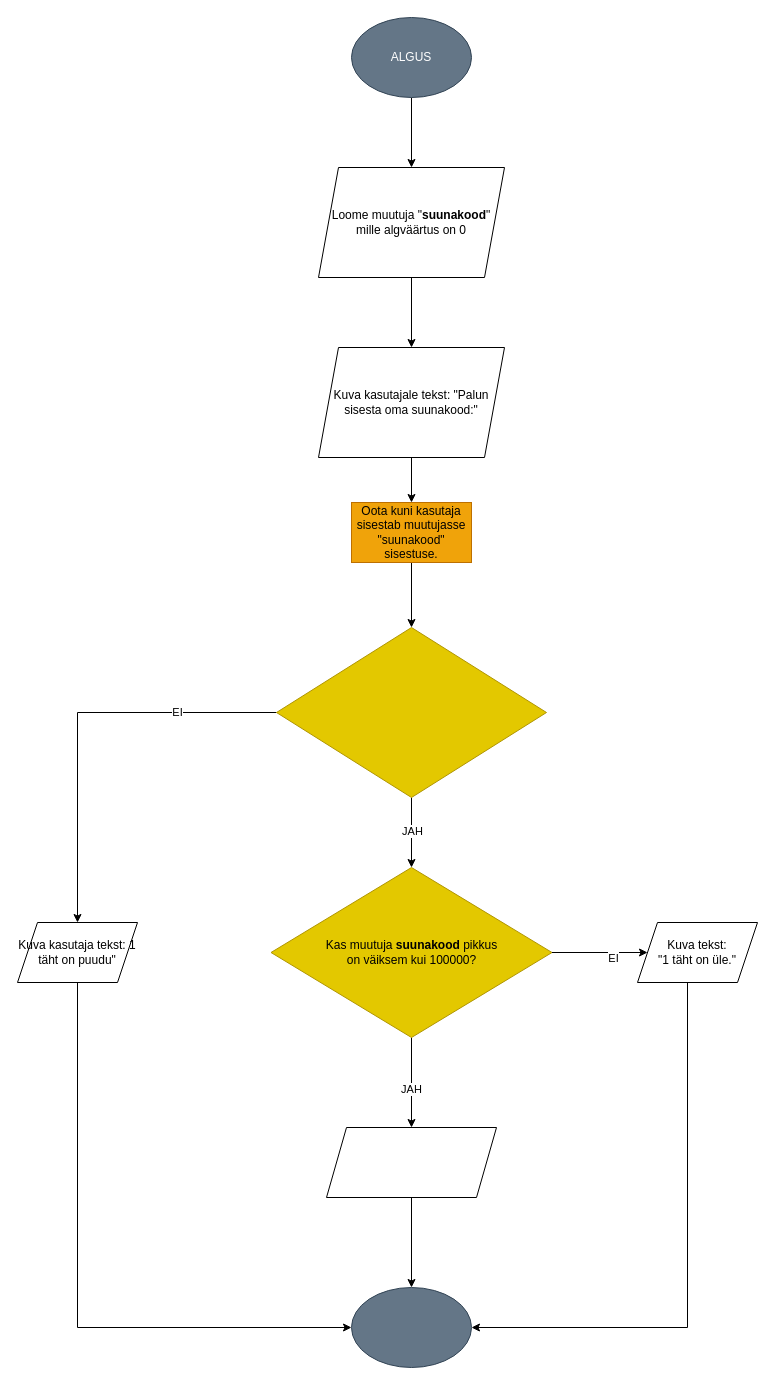
Some shapes in this 775 by 1385 pixel diagram are drawn without their labels. Here are the shapes that lost their labels. From the top down, the centre of each, then its label:
the point at 411,712: Kas muutuja suunakood pikkus on suurem kui 9999?
the point at 411,1162: Kuva tekst: "Nüüd tean kus sa elad."
the point at 411,1327: LÕPP
